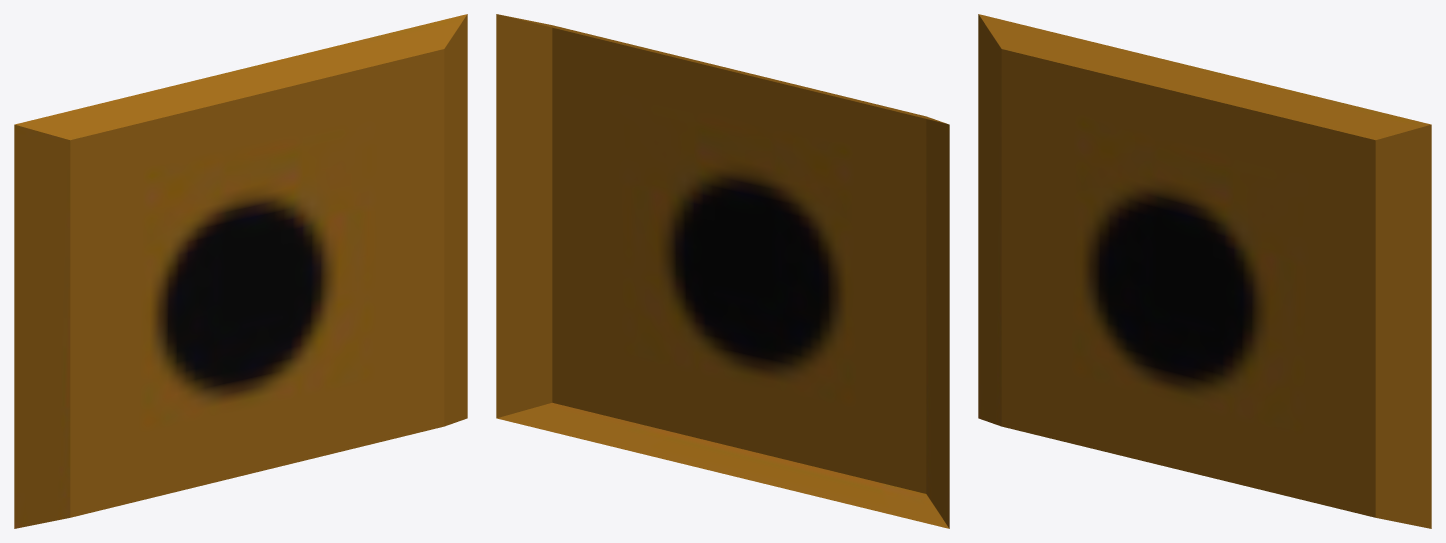
Rendered from SA_GoldStopKontak04.fbx.
3 views of the same model, side by side, from view 1: azimuth 30°, elevation 25°; view 2: azimuth 150°, elevation 25°; view 3: azimuth 330°, elevation 25° (orthographic).
Parts seen in each view (by area): view 1: SA_GoldStopKontak02; view 2: SA_GoldStopKontak02; view 3: SA_GoldStopKontak02.
Part boxes in pixels (left/top/right/bottom): SA_GoldStopKontak02: left=14, top=14, right=467, bottom=528; SA_GoldStopKontak02: left=496, top=14, right=949, bottom=528; SA_GoldStopKontak02: left=978, top=14, right=1431, bottom=528.
Bounding box in the file's own units: 12.66 × 10.8 × 0.7879.
